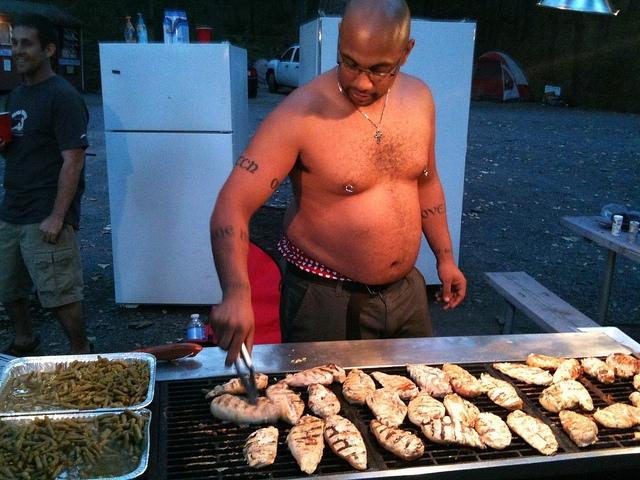green bean: (81, 447, 96, 466), (51, 464, 64, 480), (72, 389, 94, 398), (114, 458, 128, 472), (54, 430, 66, 444), (22, 440, 43, 448), (38, 427, 52, 439), (74, 384, 94, 392), (55, 440, 71, 450), (34, 451, 42, 470), (128, 378, 138, 392), (56, 374, 75, 380), (57, 451, 67, 462), (92, 428, 101, 440), (106, 454, 122, 460), (136, 417, 142, 432), (90, 464, 98, 475), (106, 380, 114, 390), (120, 447, 128, 457), (78, 378, 90, 384), (84, 424, 92, 433), (55, 384, 64, 392), (82, 396, 96, 401), (96, 367, 107, 373), (111, 416, 120, 421), (37, 446, 46, 451), (88, 391, 96, 396), (123, 400, 129, 406), (72, 401, 79, 405), (137, 370, 142, 375), (118, 370, 122, 374), (77, 367, 81, 371)
